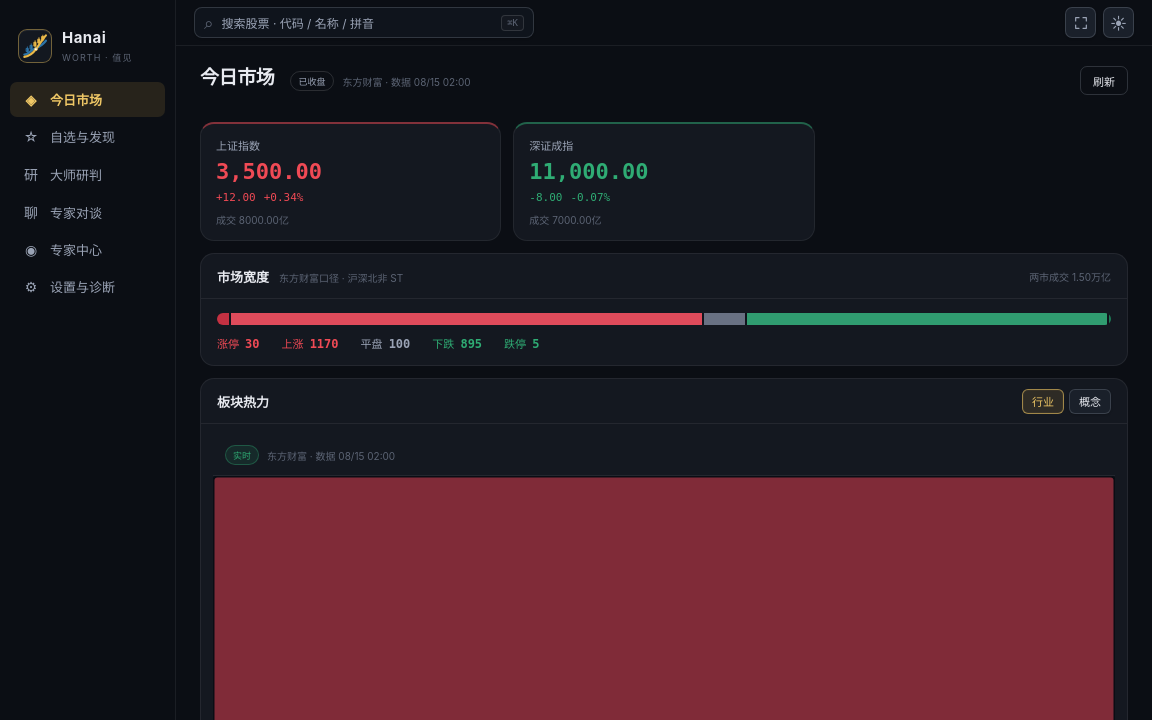
HanaiWorkbench old-client parity › uses the standard Fullscreen API and follows browser-driven exit state
This screenshot has width=1152, height=720.
Check: the heading "今日市场" is shown, box [200,66,274,90]
Click the button named "进入网页全屏". click: x=1080, y=22
box: [1065,7,1096,38]
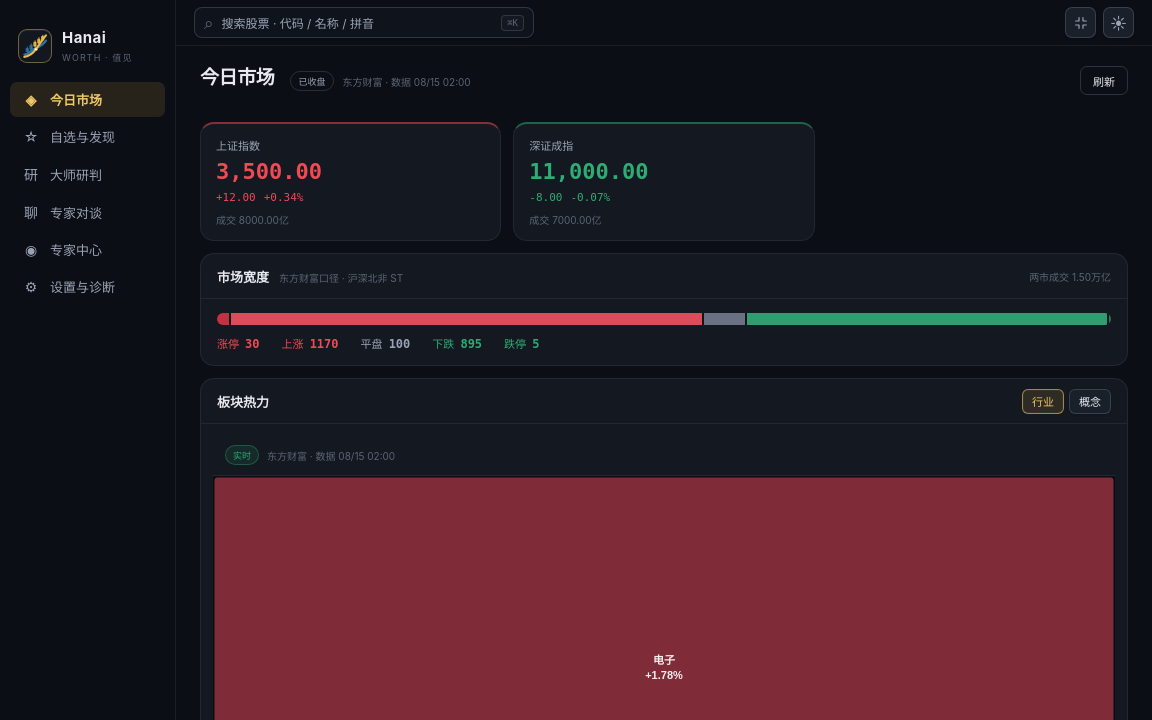
Check: the button named "退出网页全屏" is shown
Click the button named "退出网页全屏". click: x=1080, y=22
box: [1065,7,1096,38]
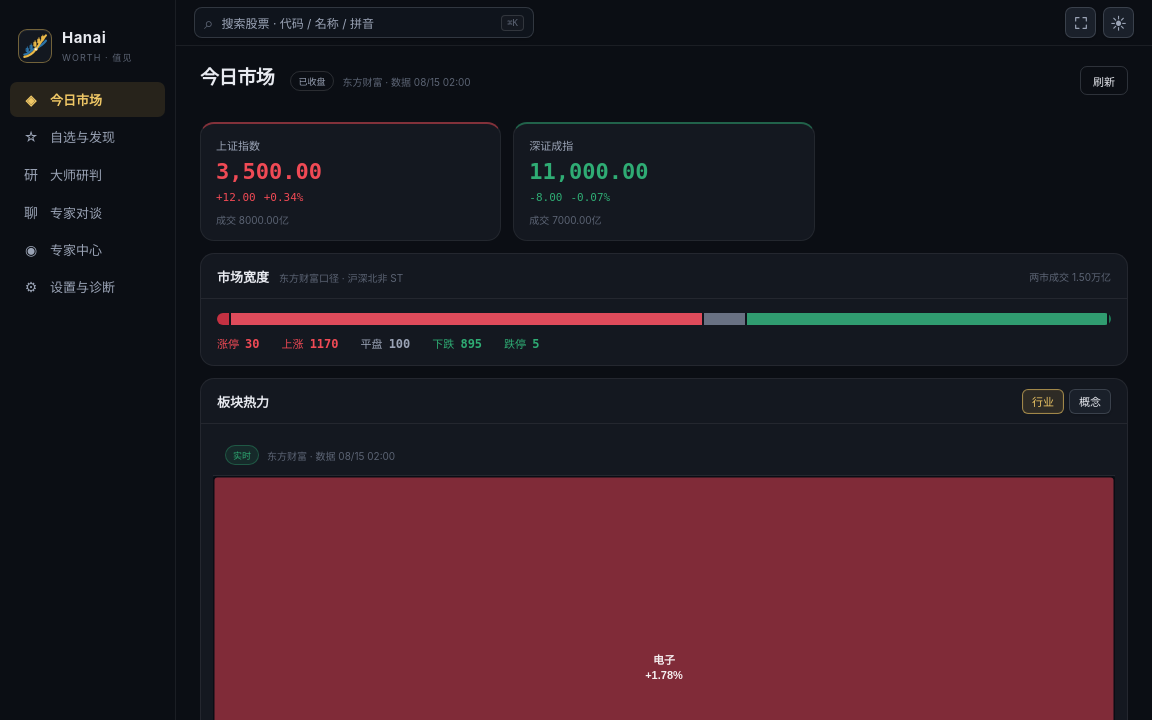
Check: the button named "进入网页全屏" is shown, box [1065,7,1096,38]
